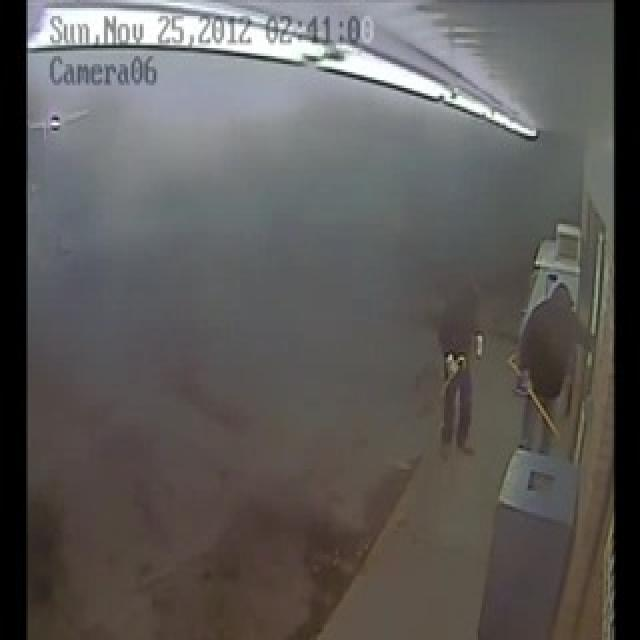thief: (512, 277, 584, 453), (434, 288, 484, 458)
